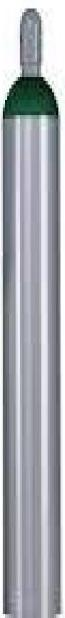cylinder: (1, 1, 65, 618)
